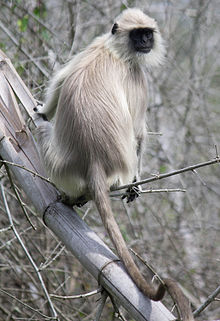langur: (36, 7, 169, 300)
